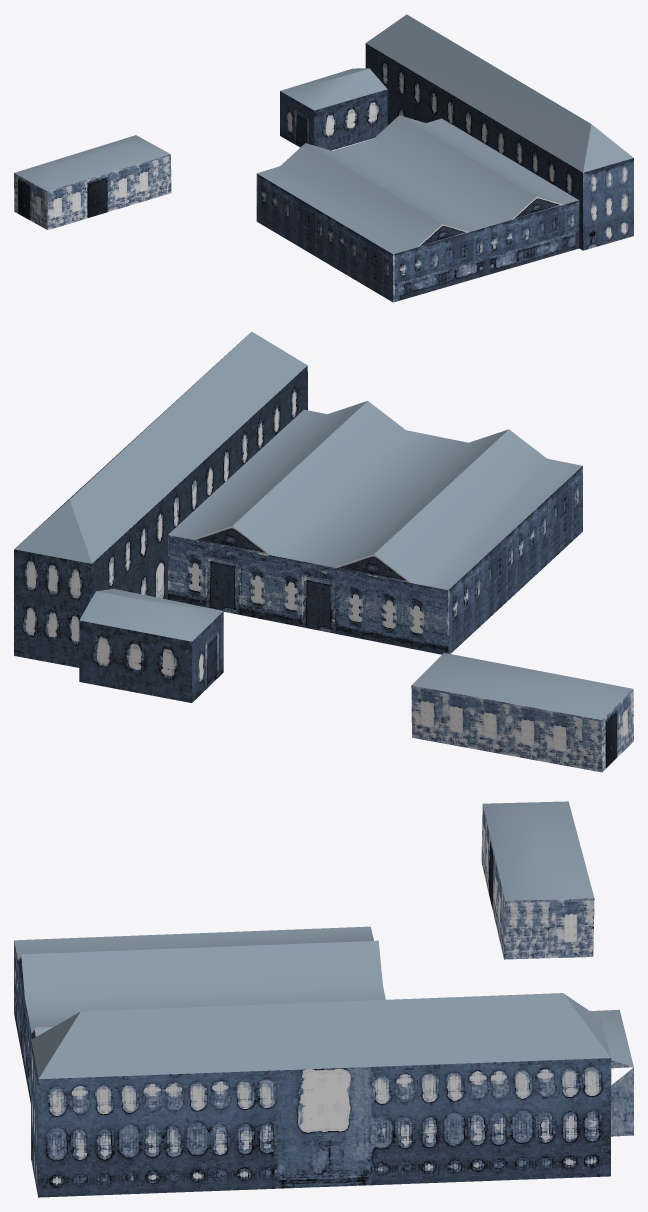
The model's file is Jante-Bau.gltf.
The picture shows the model from 3 angles, top to bottom: view 1: azimuth 30°, elevation 25°; view 2: azimuth 150°, elevation 25°; view 3: azimuth 270°, elevation 25°; orthographic projection. The views are drawn at different scales.
Visible parts, largest first — view 1: Hauptgebaeude.1; view 2: Hauptgebaeude.1; view 3: Hauptgebaeude.1.
Boxes of the visible parts, x1,y1,x2,y2 form: Hauptgebaeude.1: [14, 14, 633, 302]; Hauptgebaeude.1: [14, 331, 633, 772]; Hauptgebaeude.1: [14, 801, 633, 1197].
Bounding box in the file's own units: 87.06 × 20.4 × 69.17.
Materials: 19 (18 with a texture image).
